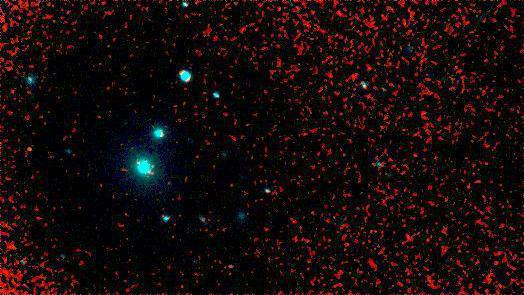star: (14, 133, 44, 163)
